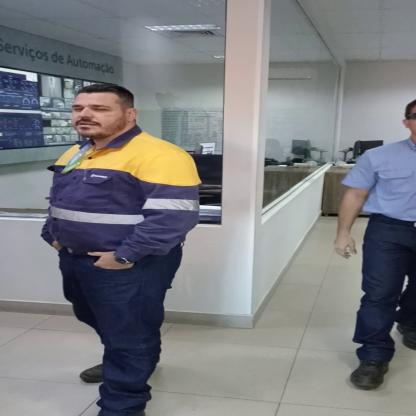Operacional: (21, 138, 204, 264)
